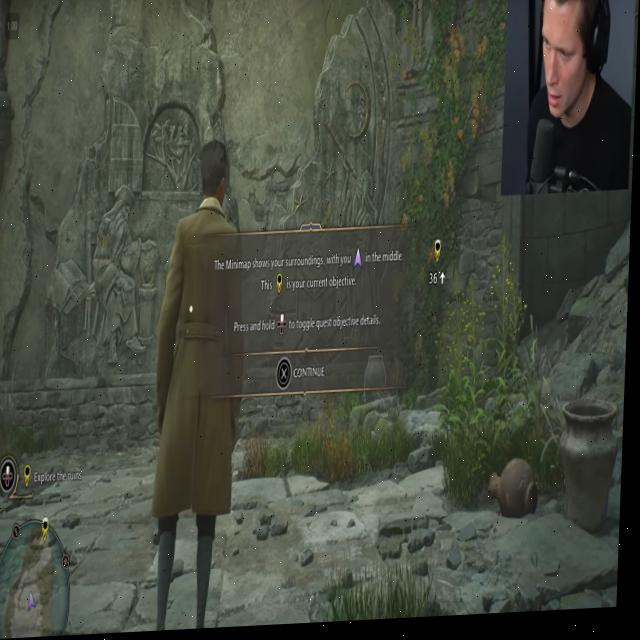compass: (27, 464, 35, 490), (46, 517, 53, 545), (436, 244, 444, 268), (278, 275, 285, 298)
